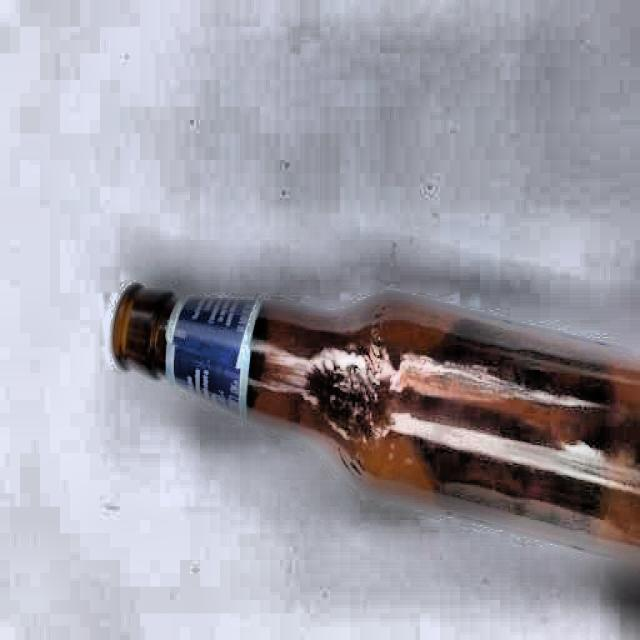glass: (106, 265, 640, 567)
